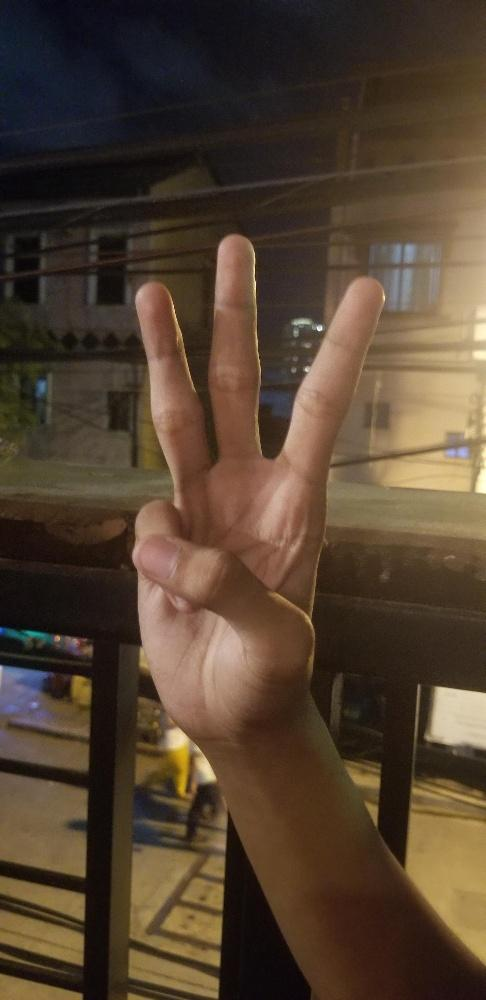w: (132, 234, 384, 731)
